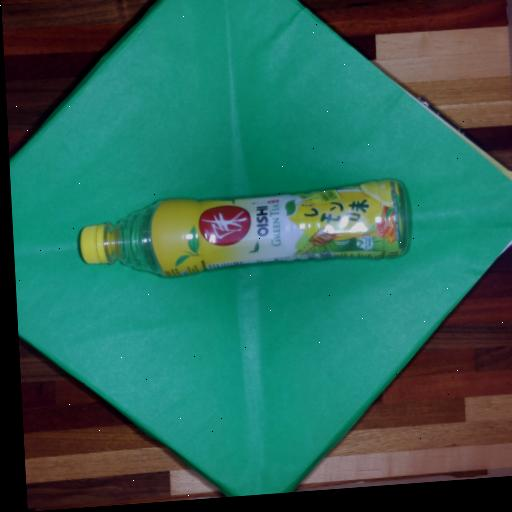bottle: (80, 180, 409, 276)
